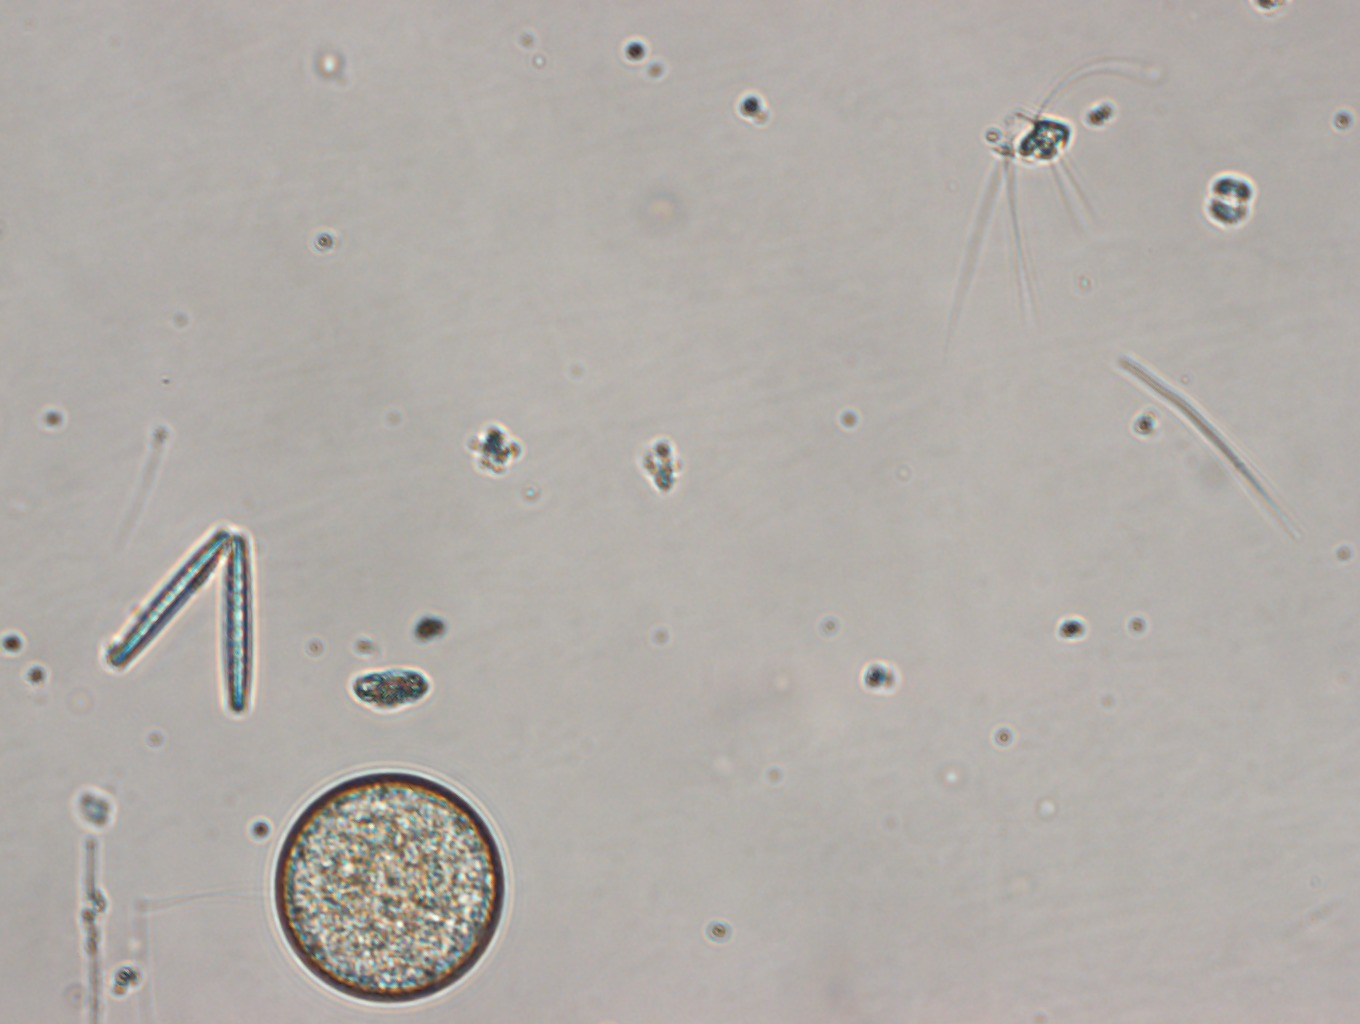coscinodiscus: (275, 771, 513, 1007)
thalassionema nitzschioides: (110, 524, 275, 712)
